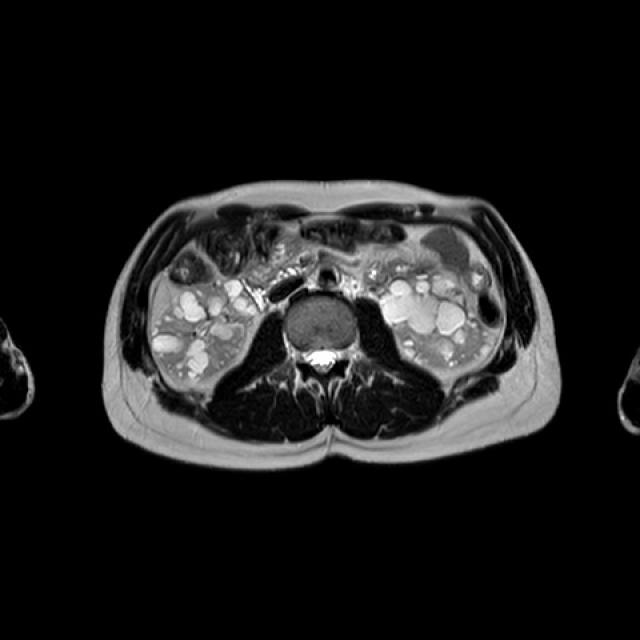sag: (149, 276, 258, 391)
sol: (361, 255, 500, 373)
